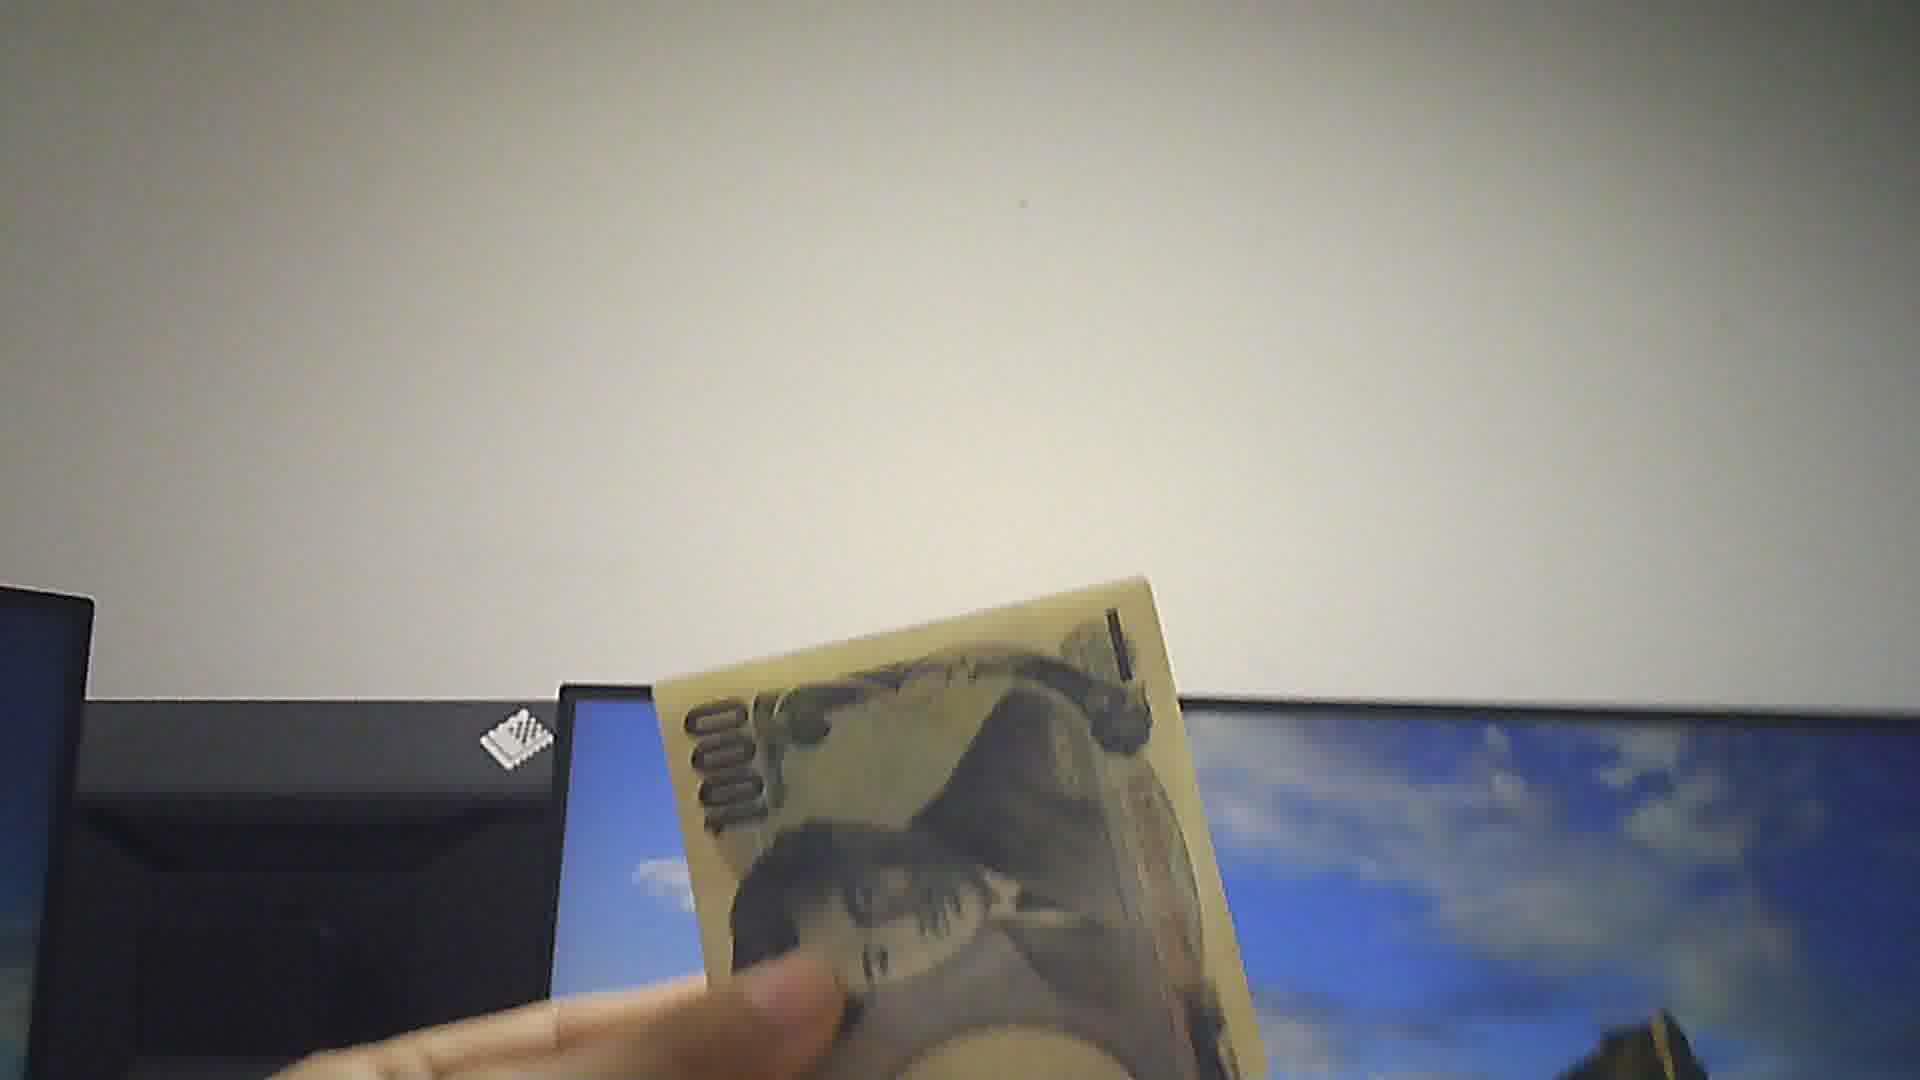1,000 Yen: (646, 589, 1273, 1079)
